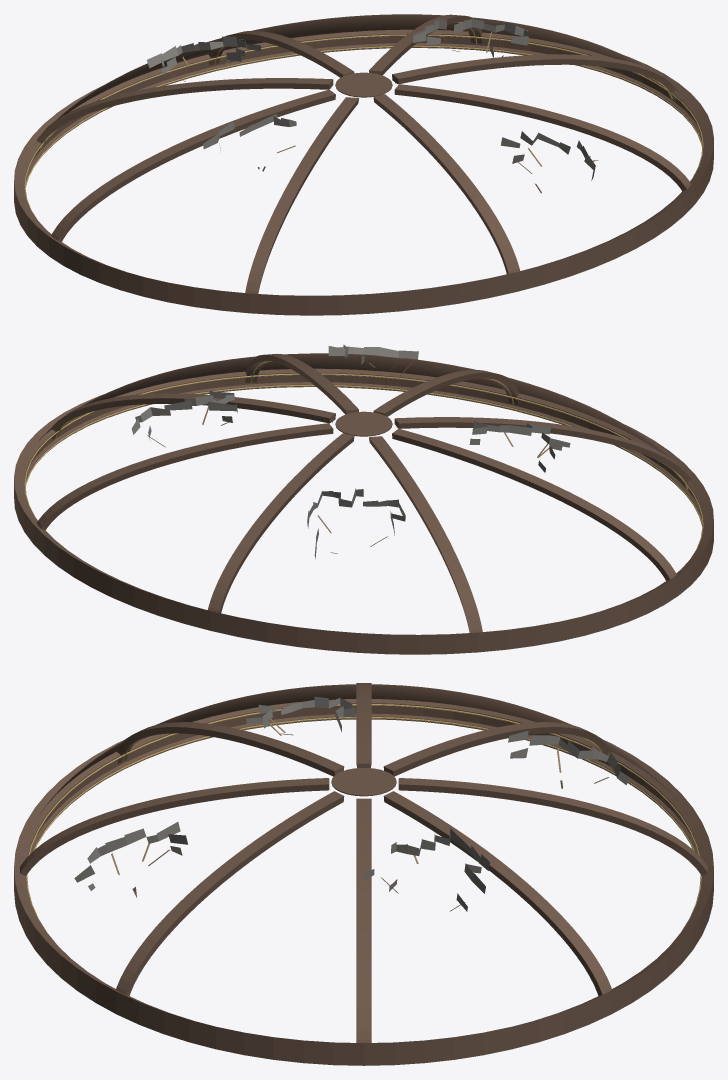
The model's file is dome.glb.
3 views of the same model, one above another, from view 1: azimuth 30°, elevation 25°; view 2: azimuth 150°, elevation 25°; view 3: azimuth 270°, elevation 25° (orthographic). The views are drawn at different scales.
Parts seen in each view (by area): view 1: ceiling_theater__dome__solid, concrete__dome__solid, brass__dome__solid; view 2: ceiling_theater__dome__solid, concrete__dome__solid, brass__dome__solid; view 3: ceiling_theater__dome__solid, concrete__dome__solid, brass__dome__solid.
Part boxes in pixels (left/top/right/bottom): ceiling_theater__dome__solid: left=14, top=14, right=713, bottom=315; concrete__dome__solid: left=147, top=19, right=595, bottom=180; brass__dome__solid: left=24, top=22, right=703, bottom=229; ceiling_theater__dome__solid: left=14, top=353, right=713, bottom=654; concrete__dome__solid: left=131, top=344, right=570, bottom=559; brass__dome__solid: left=24, top=361, right=703, bottom=567; ceiling_theater__dome__solid: left=14, top=683, right=713, bottom=1065; concrete__dome__solid: left=74, top=696, right=629, bottom=911; brass__dome__solid: left=26, top=704, right=701, bottom=945.
Size of the model in its own units: 38.1 by 5.71 by 32.1.
